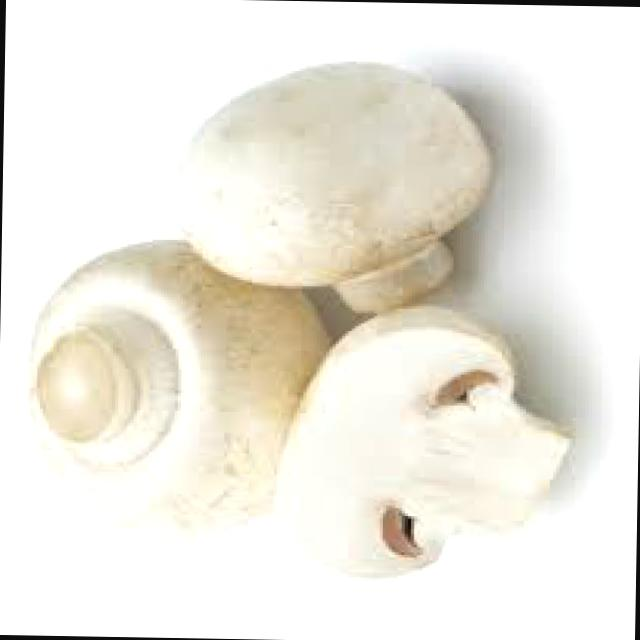Agaricus bisporus: (22, 237, 330, 536), (179, 52, 492, 310), (276, 311, 574, 578)
